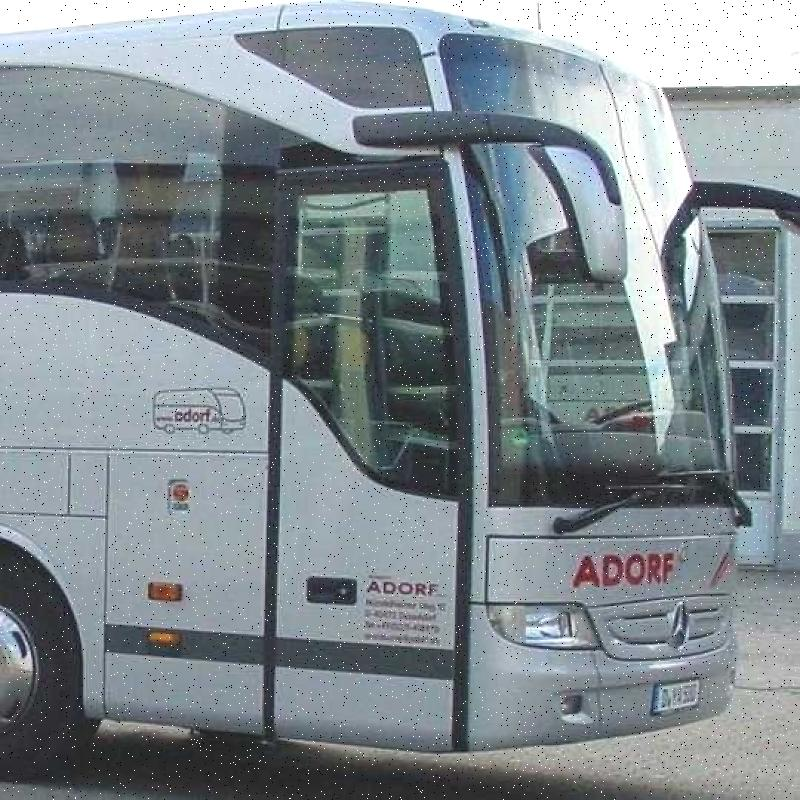bus: (10, 13, 790, 800)
